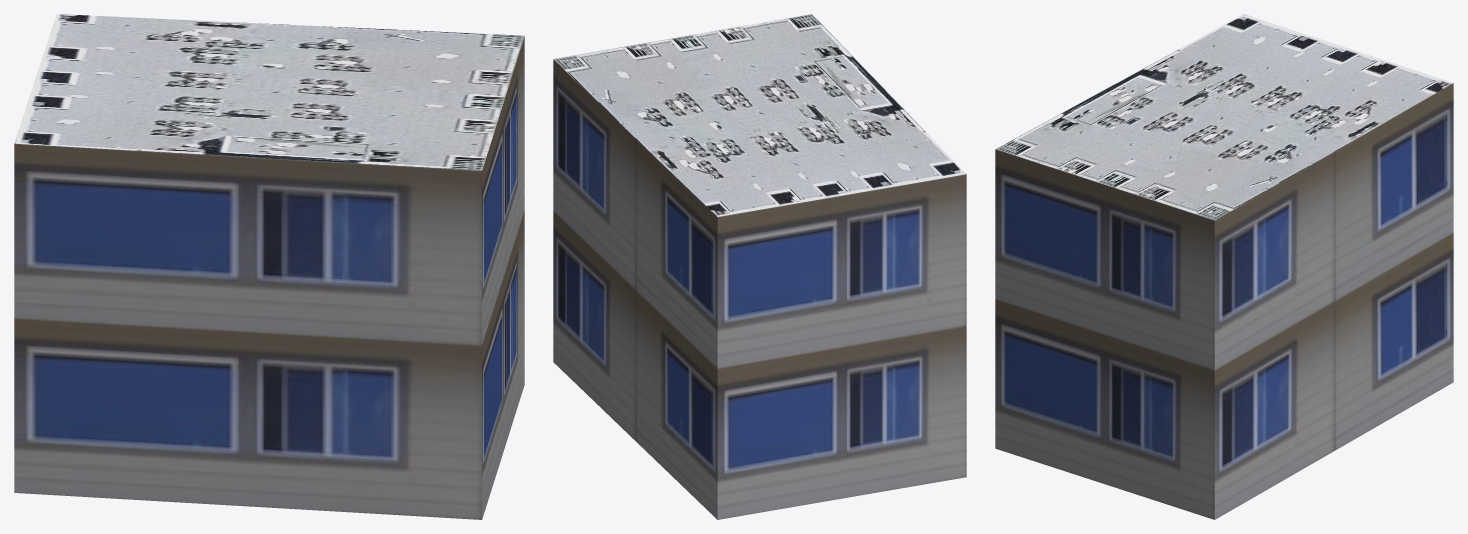
File: ResTex__1092.fbx
The picture shows the model from 3 angles, left to right: view 1: azimuth 30°, elevation 25°; view 2: azimuth 150°, elevation 25°; view 3: azimuth 270°, elevation 25°; orthographic projection. The views are drawn at different scales.
Parts seen in each view (by area): view 1: CityEngineMaterial_23_m, CityEngineMaterial_8_m; view 2: CityEngineMaterial_23_m, CityEngineMaterial_8_m; view 3: CityEngineMaterial_23_m, CityEngineMaterial_8_m.
Part boxes in pixels (box(x1,y1,x2,y2)): CityEngineMaterial_23_m: box(14, 36, 524, 519); CityEngineMaterial_8_m: box(14, 14, 524, 170); CityEngineMaterial_23_m: box(553, 59, 966, 519); CityEngineMaterial_8_m: box(553, 14, 966, 216); CityEngineMaterial_23_m: box(995, 83, 1453, 519); CityEngineMaterial_8_m: box(996, 14, 1452, 220).
Bounding box in the file's own units: 8.87 × 6 × 8.32.
2 materials, 2 textured.
